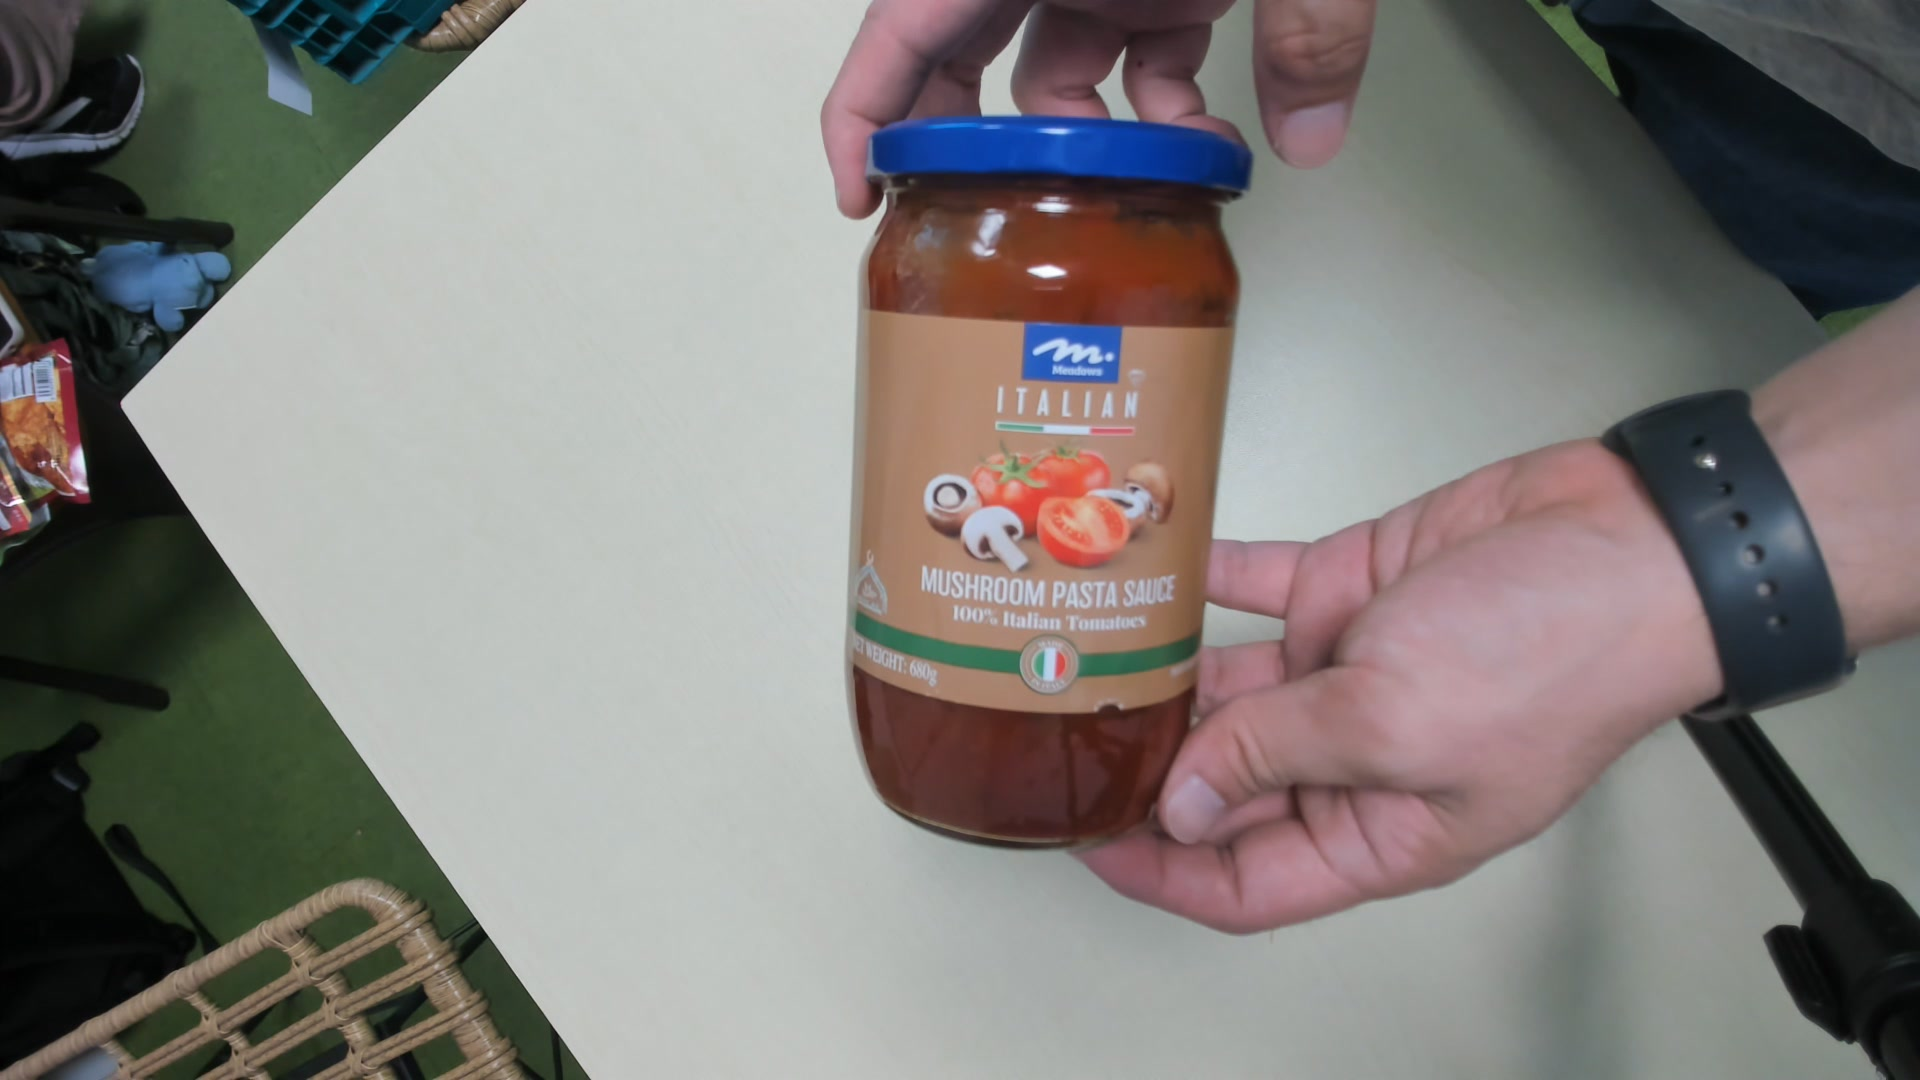PastaSauce_600-699g_Halal_NonHealthy: (837, 127, 1241, 843)
